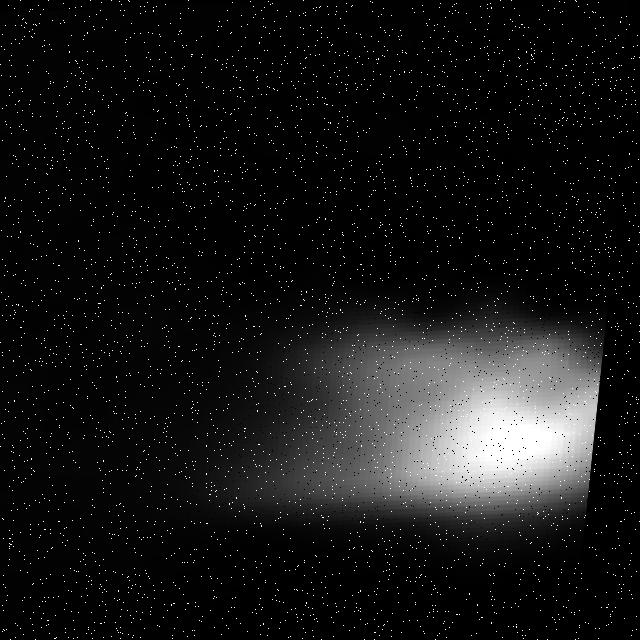person: (175, 292, 617, 550)
